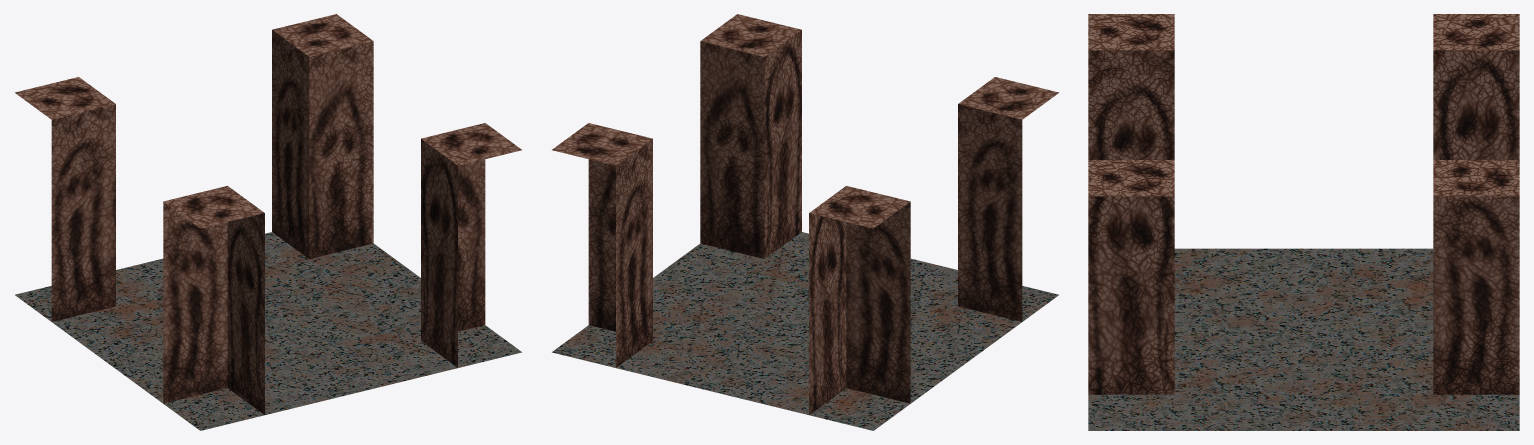
Rendered from Four_Edges.fbx.
The picture shows the model from 3 angles, left to right: view 1: azimuth 30°, elevation 25°; view 2: azimuth 150°, elevation 25°; view 3: azimuth 270°, elevation 25°; orthographic projection. The views are drawn at different scales.
Parts seen in each view (by area): view 1: Four_Edges; view 2: Four_Edges; view 3: Four_Edges.
Part boxes in pixels (left/top/right/bottom): Four_Edges: left=15, top=14, right=521, bottom=430; Four_Edges: left=552, top=14, right=1058, bottom=430; Four_Edges: left=1088, top=14, right=1519, bottom=430.
Size of the model in its own units: 100 by 60 by 100.
Materials: 1 (1 with a texture image).
